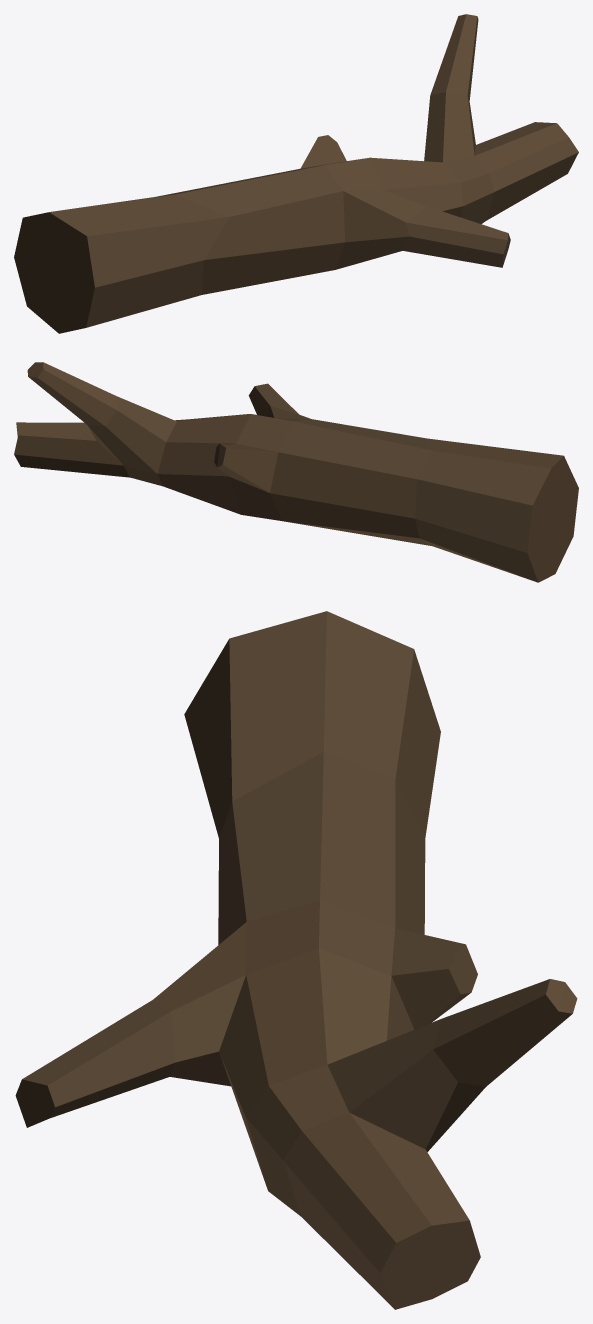
Rendered from enchantedforest_tree_fallen_big.fbx.
The picture shows the model from 3 angles, top to bottom: view 1: azimuth 30°, elevation 25°; view 2: azimuth 150°, elevation 25°; view 3: azimuth 270°, elevation 25°; orthographic projection. The views are drawn at different scales.
Visible parts, largest first — view 1: Cylinder.002; view 2: Cylinder.002; view 3: Cylinder.002.
Part boxes in pixels (x1,y1,x2,y2): Cylinder.002: (14, 14, 578, 333); Cylinder.002: (14, 362, 578, 582); Cylinder.002: (15, 611, 577, 1309).
Bounding box in the file's own units: 4.83 × 1.33 × 2.26.
